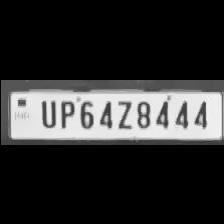4: (94, 96, 114, 128), (152, 96, 172, 128), (170, 96, 190, 128), (190, 96, 210, 128)
6: (75, 97, 95, 129)
8: (132, 97, 152, 128)
P: (56, 97, 75, 128)
U: (35, 97, 57, 128)
Z: (112, 97, 132, 129)
